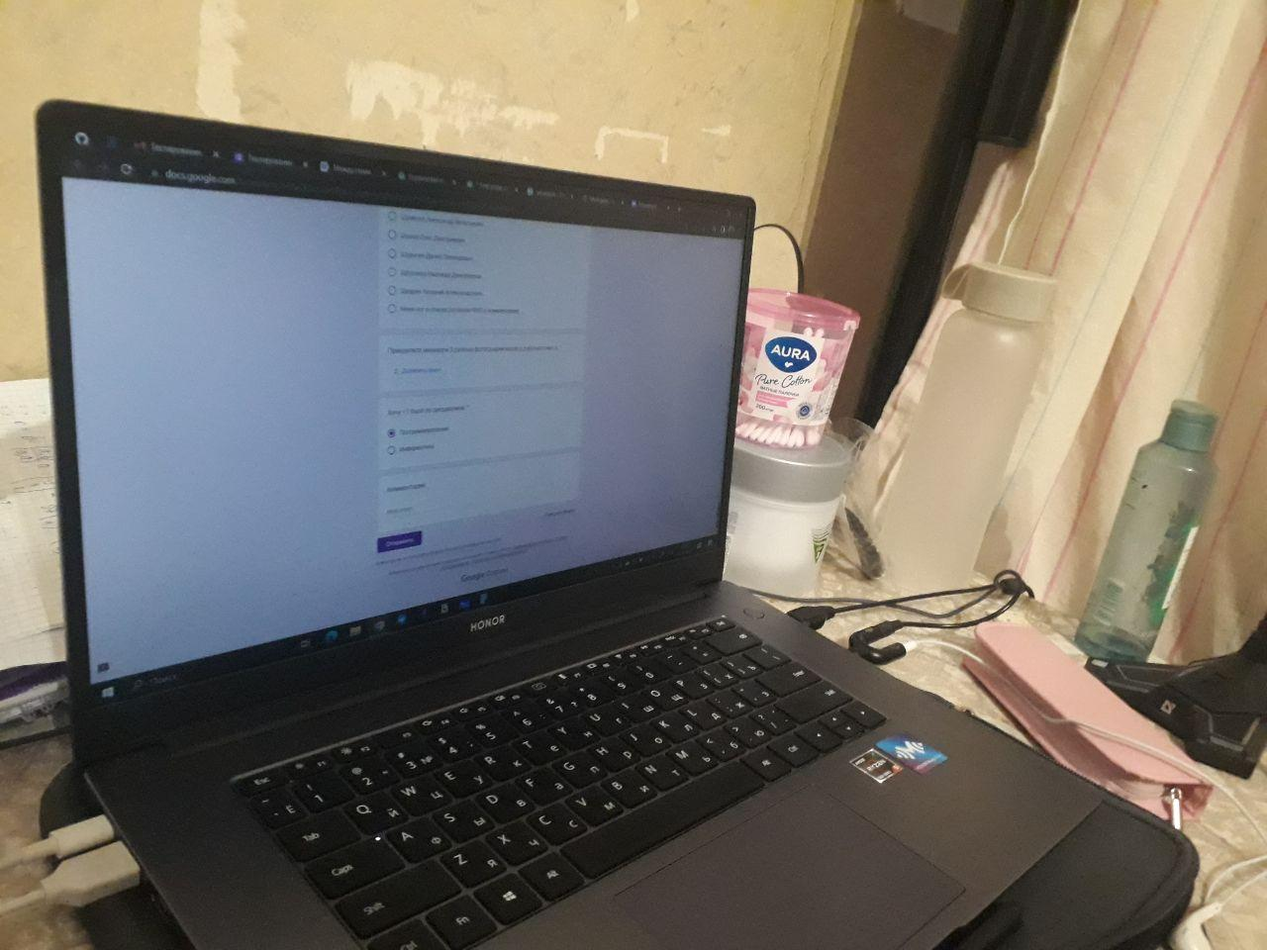monitor: (28, 82, 765, 752)
